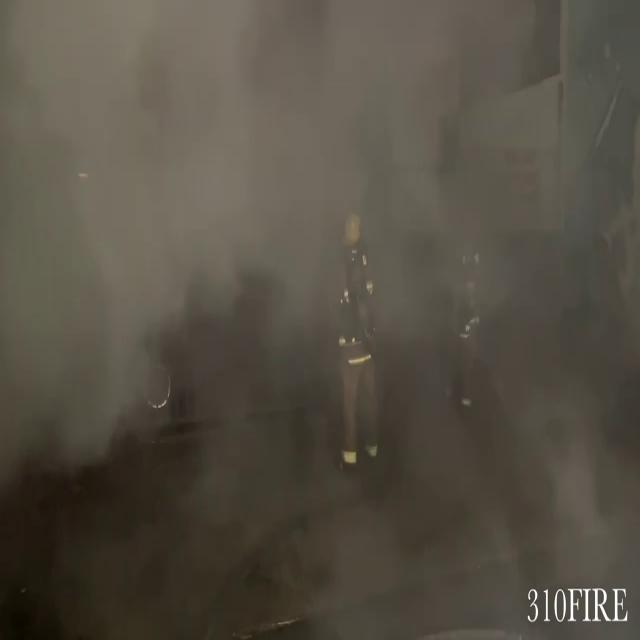Smoke: (0, 1, 638, 625)
